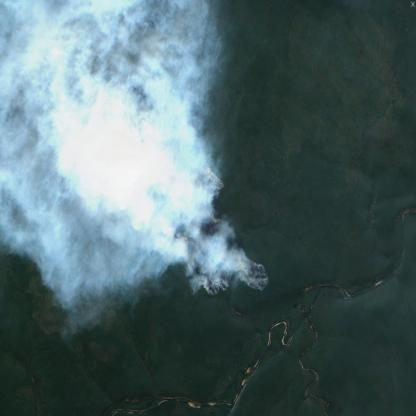fire: (161, 152, 235, 297)
